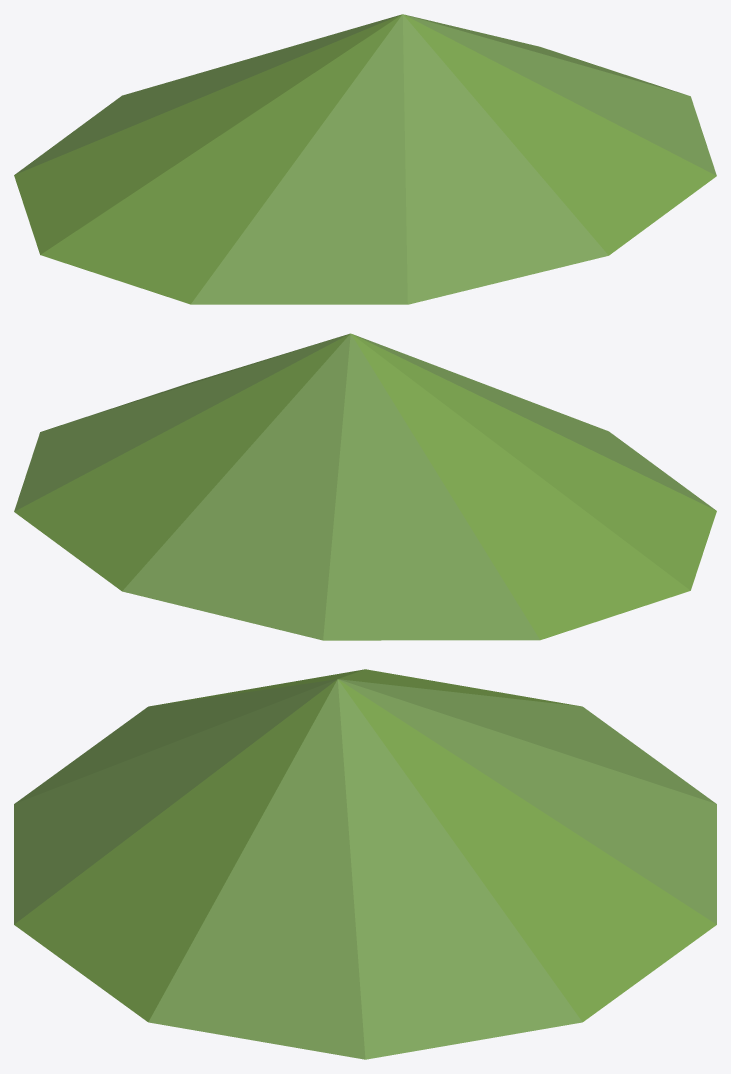
File: GrassyHill.obj
3 views of the same model, one above another, from view 1: azimuth 30°, elevation 25°; view 2: azimuth 150°, elevation 25°; view 3: azimuth 270°, elevation 25° (orthographic). The views are drawn at different scales.
Parts seen in each view (by area): view 1: GrassyHill; view 2: GrassyHill; view 3: GrassyHill.
Part boxes in pixels (<box>): GrassyHill: <box>14,14,716,304</box>; GrassyHill: <box>14,333,716,640</box>; GrassyHill: <box>14,669,716,1059</box>.
Size of the model in its own units: 10 by 2.4 by 7.61.
